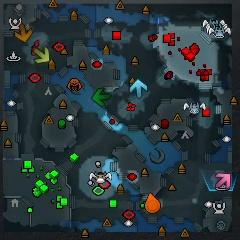p5: (144, 193, 161, 213)
x1: (215, 172, 231, 189)
x2: (34, 47, 50, 64)
x3: (129, 79, 148, 98)
x4: (92, 88, 111, 106)
x5: (15, 23, 33, 42)
